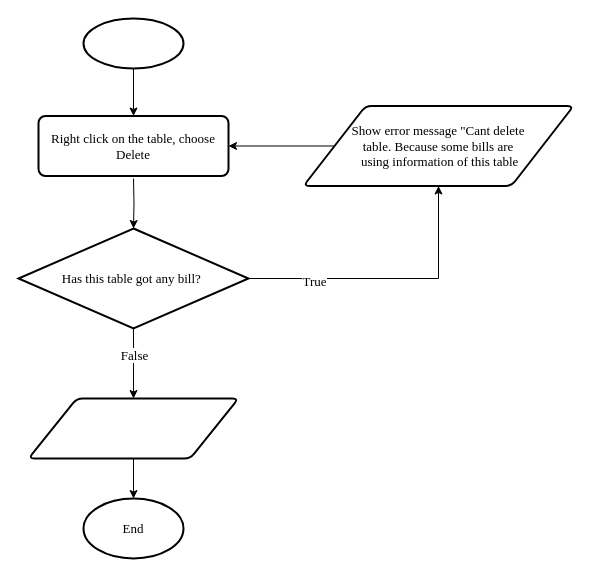
This 591x576 diagram has some shape labels left out. The shapes that lost their labels are listed below. From the top down, each one's centre as x and y in pixels, then its label:
(x=133, y=43): Begin
(x=133, y=428): Delete table
